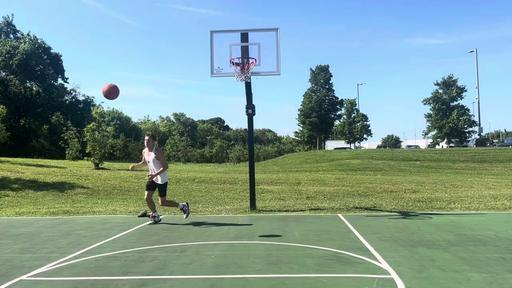ball: (103, 83, 119, 100)
human: (130, 135, 189, 224)
rim: (228, 56, 256, 82)
